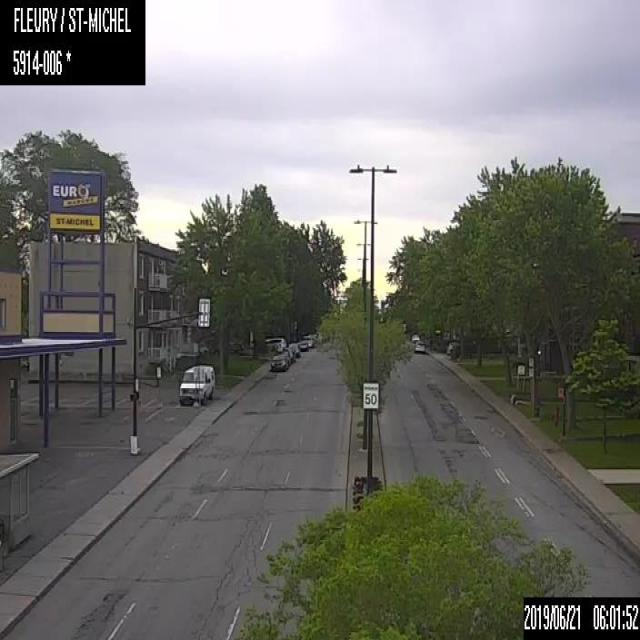vehicle: (178, 362, 216, 406), (267, 353, 287, 372), (265, 337, 285, 350), (280, 348, 292, 366), (287, 342, 299, 358), (297, 338, 308, 351), (414, 340, 424, 352)
